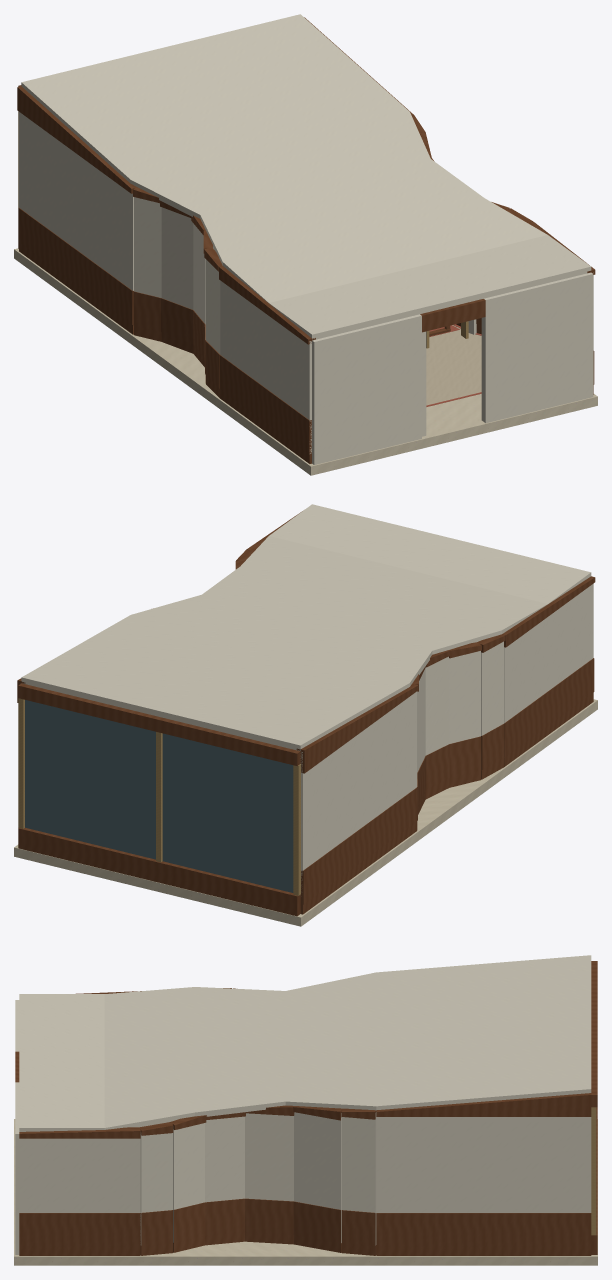
The model's file is FAMILY_ROOM_01_r001.glb.
3 renders of one model, top to bottom at view 1: azimuth 30°, elevation 25°; view 2: azimuth 150°, elevation 25°; view 3: azimuth 270°, elevation 25°, orthographic.
Visible parts, largest first — view 1: FamilyTerraceRoomBatch_2, FamilyTerraceRoomBatch_1, FamilyTerraceRoomBatch_0, FamilyTerraceRoomBatch_3; view 2: FamilyTerraceRoomBatch_2, FamilyTerraceRoomBatch_6, FamilyTerraceRoomBatch_1, FamilyTerraceRoomBatch_0, FamilyTerraceRoomBatch_5; view 3: FamilyTerraceRoomBatch_2, FamilyTerraceRoomBatch_1, FamilyTerraceRoomBatch_0, FamilyTerraceRoomBatch_5.
Part boxes in pixels (x1=…): FamilyTerraceRoomBatch_2: x1=19, y1=14, x2=593, y2=464; FamilyTerraceRoomBatch_1: x1=17, y1=17, x2=595, y2=463; FamilyTerraceRoomBatch_0: x1=14, y1=248, x2=597, y2=475; FamilyTerraceRoomBatch_3: x1=213, y1=248, x2=481, y2=405; FamilyTerraceRoomBatch_2: x1=21, y1=504, x2=593, y2=885; FamilyTerraceRoomBatch_6: x1=25, y1=700, x2=293, y2=892; FamilyTerraceRoomBatch_1: x1=17, y1=511, x2=595, y2=916; FamilyTerraceRoomBatch_0: x1=14, y1=699, x2=597, y2=926; FamilyTerraceRoomBatch_5: x1=18, y1=698, x2=300, y2=895; FamilyTerraceRoomBatch_2: x1=15, y1=955, x2=591, y2=1254; FamilyTerraceRoomBatch_1: x1=15, y1=961, x2=597, y2=1255; FamilyTerraceRoomBatch_0: x1=14, y1=1119, x2=597, y2=1265; FamilyTerraceRoomBatch_5: x1=591, y1=1107, x2=596, y2=1235.
Size of the model in its own units: 7.2 by 4.26 by 12.9.
48 materials, 41 textured.
